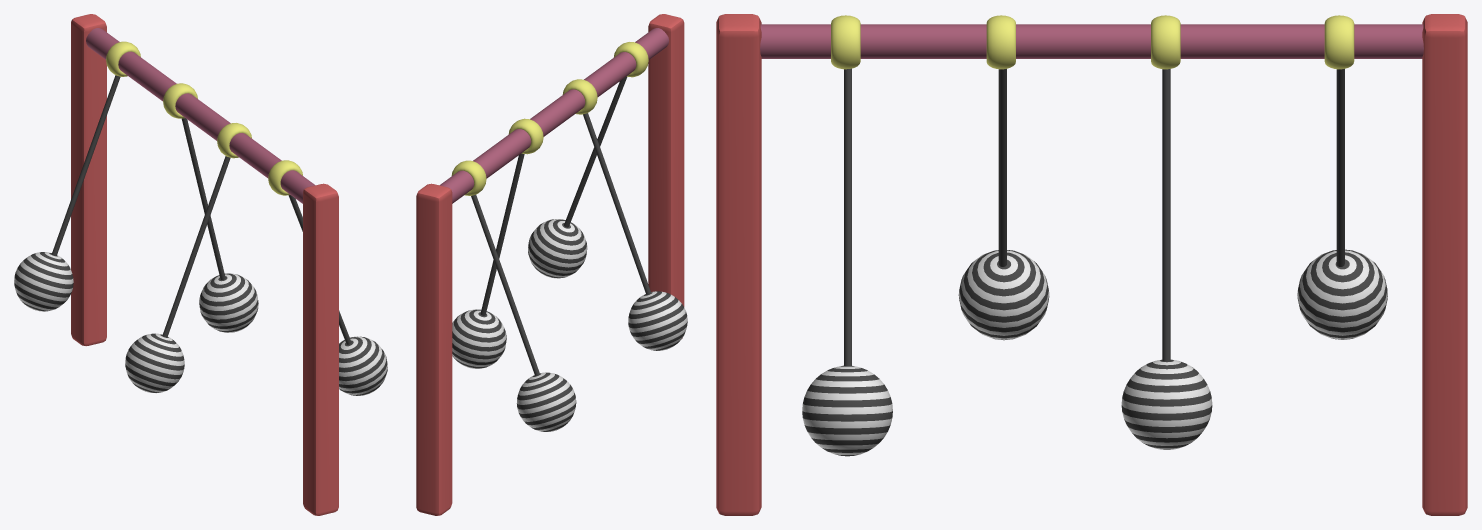
Rendered from Obstacle08.fbx.
The picture shows the model from 3 angles, left to right: view 1: azimuth 30°, elevation 25°; view 2: azimuth 150°, elevation 25°; view 3: azimuth 270°, elevation 25°; orthographic projection. The views are drawn at different scales.
Parts seen in each view (by area): view 1: Obstacle08_Post02_msh, Obstacle08_Post01_msh, Obstacle08_Post_msh, Ball01_msh, Ball03_msh, Ball02_msh, Ball04_msh, Ring04_msh, Ring02_msh, Ring01_msh, Ring03_msh; view 2: Obstacle08_Post01_msh, Obstacle08_Post02_msh, Obstacle08_Post_msh, Ball03_msh, Ball01_msh, Ball04_msh, Ball02_msh, Ring03_msh, Ring04_msh, Ring01_msh, Ring02_msh; view 3: Obstacle08_Post01_msh, Obstacle08_Post02_msh, Obstacle08_Post_msh, Ball02_msh, Ball04_msh, Ball03_msh, Ball01_msh, Ring01_msh, Ring03_msh, Ring02_msh, Ring04_msh.
Boxes of the visible parts, x1,y1,x2,y2 form: Obstacle08_Post02_msh: (303,183,338,515); Obstacle08_Post01_msh: (71,14,106,346); Obstacle08_Post_msh: (86,28,315,203); Ball01_msh: (14,75,120,311); Ball03_msh: (125,156,230,392); Ball02_msh: (181,118,258,332); Ball04_msh: (288,195,387,395); Ring04_msh: (268,160,302,195); Ring02_msh: (163,83,197,118); Ring01_msh: (106,41,140,76); Ring03_msh: (217,123,251,158); Obstacle08_Post01_msh: (416,183,452,515); Obstacle08_Post02_msh: (648,14,684,338); Obstacle08_Post_msh: (440,28,668,203); Ball03_msh: (583,113,687,350); Ball01_msh: (471,194,576,431); Ball04_msh: (528,76,627,278); Ball02_msh: (452,153,524,368); Ring03_msh: (562,79,597,114); Ring04_msh: (613,42,648,77); Ring01_msh: (451,160,486,195); Ring02_msh: (508,118,543,154); Obstacle08_Post01_msh: (1422,14,1467,515); Obstacle08_Post02_msh: (716,14,761,515); Obstacle08_Post_msh: (760,24,1423,58); Ball02_msh: (1121,69,1212,449); Ball04_msh: (802,68,892,456); Ball03_msh: (958,69,1049,340); Ball01_msh: (1297,69,1387,339); Ring01_msh: (1324,15,1354,69); Ring03_msh: (986,15,1015,69); Ring02_msh: (1151,15,1180,69); Ring04_msh: (831,15,860,69).
Size of the model in its own units: 7.87 by 11.96 by 16.55.
